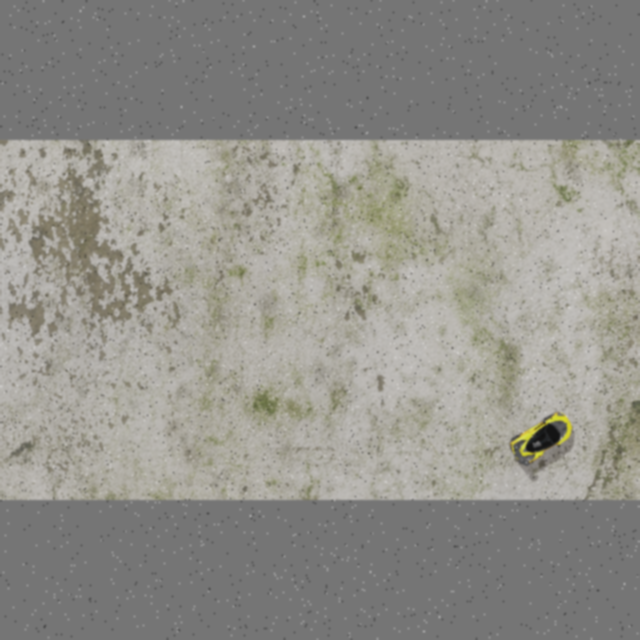car: (503, 407, 582, 471)
